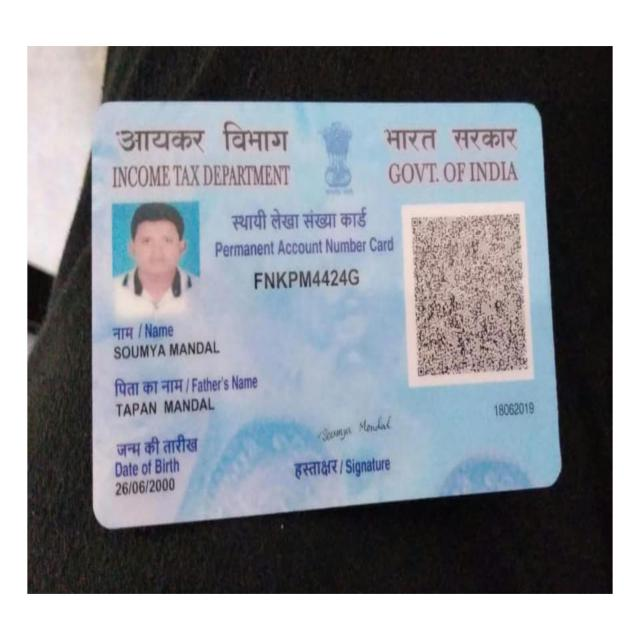pan_card: (98, 112, 554, 520)
